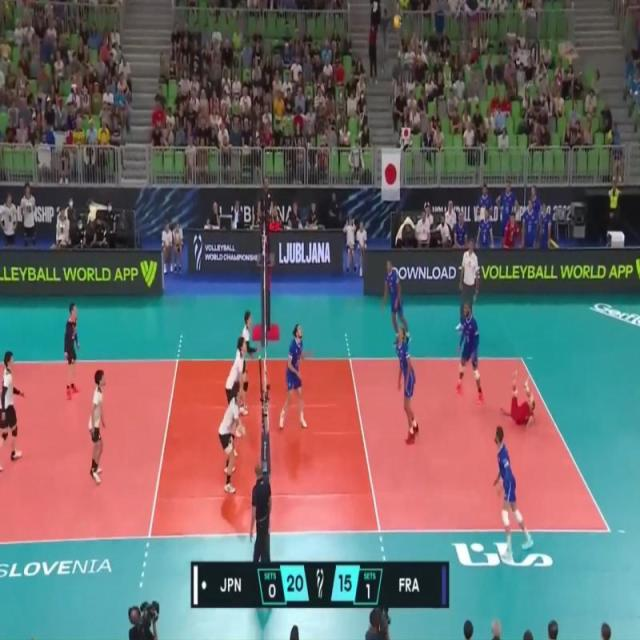volleyball: (392, 13, 403, 31)
